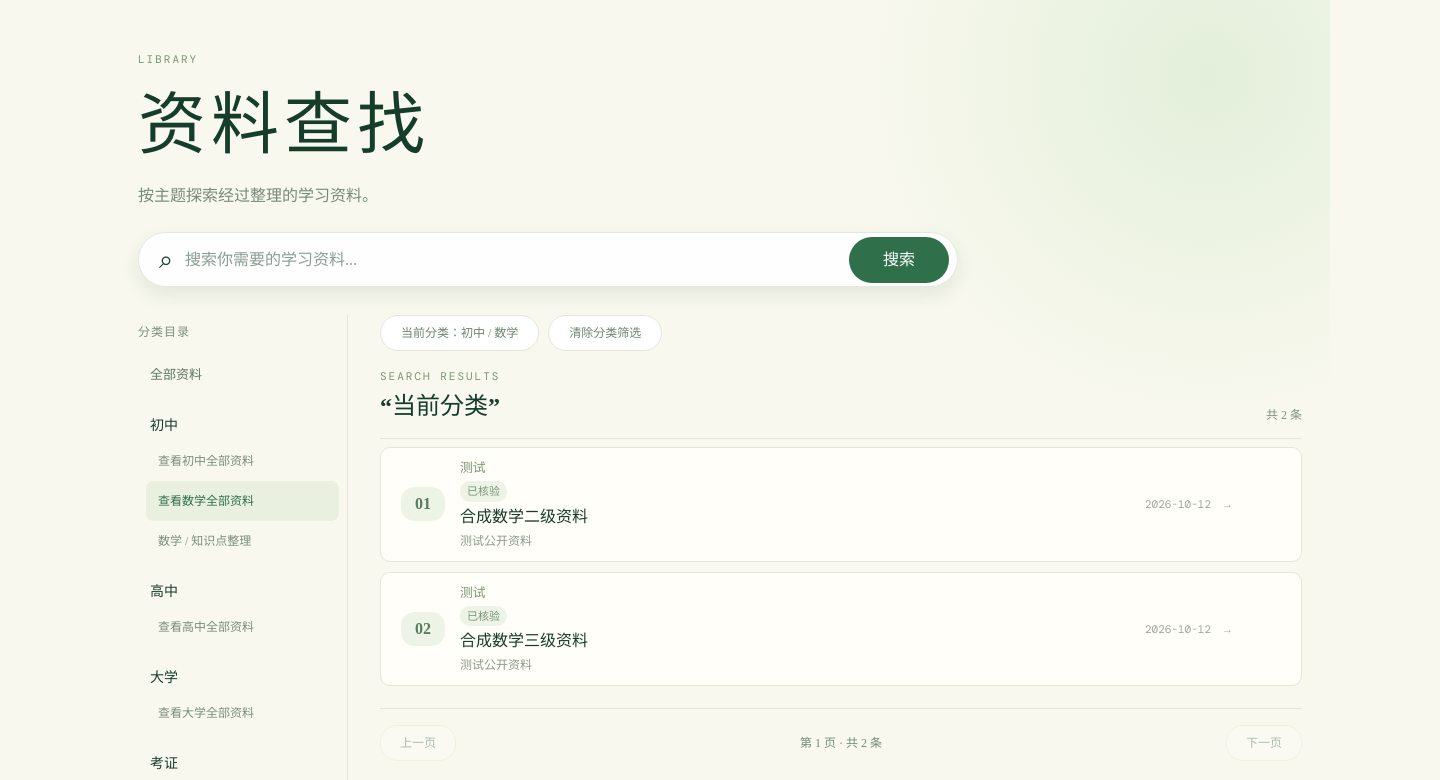
ResourcesPage category filtering › displays and searches valid category subject-junior-math
The image size is (1440, 780).
Expected: the text "合成数学二级资料" is shown, 460,508 -> 588,525
Expected: the text "共 2 条" is shown, 1266,406 -> 1302,424
Type "合成数学二级资料" into the field named "关键词". click: [511, 260]
box: 185,248 -> 837,272
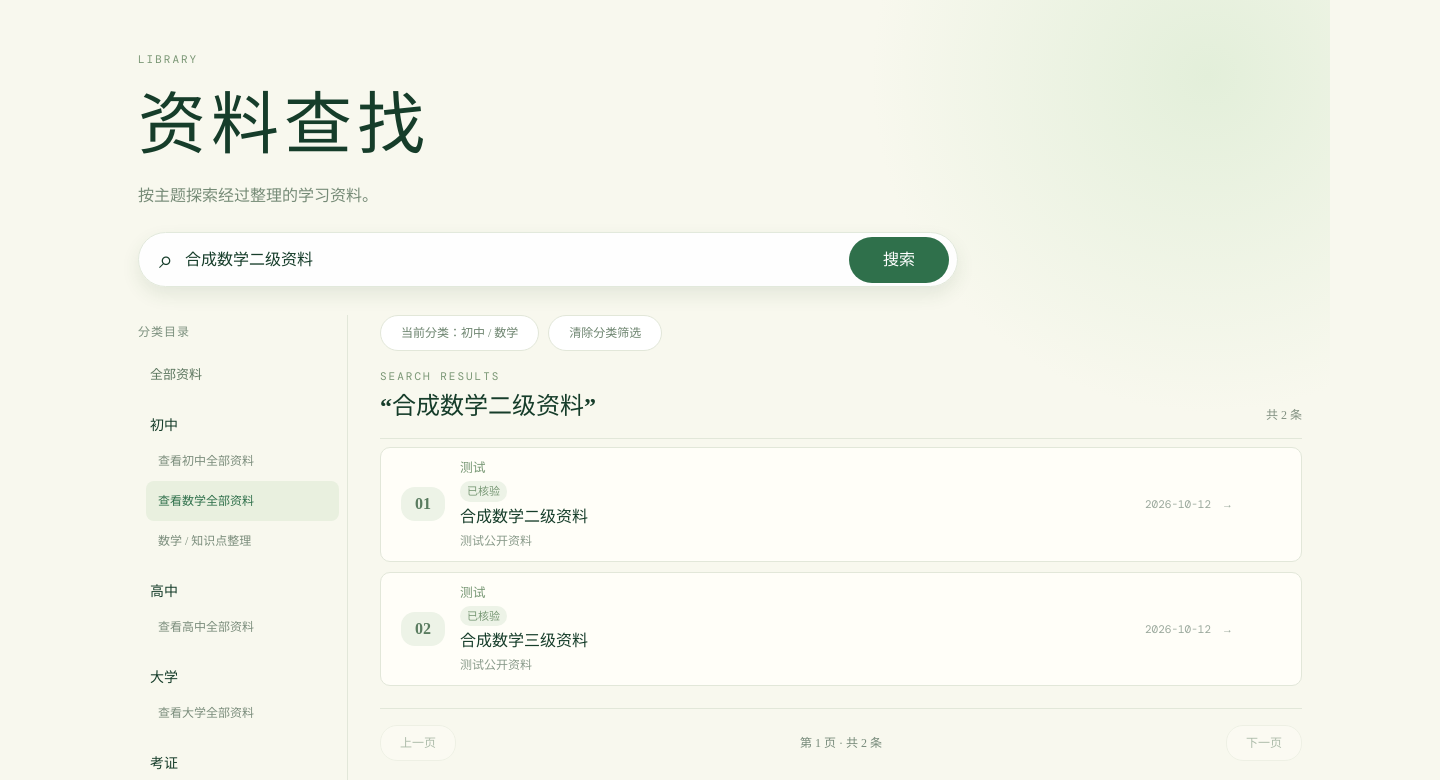
Click the button "搜索". click: [899, 260]
box: 849,236 -> 949,282
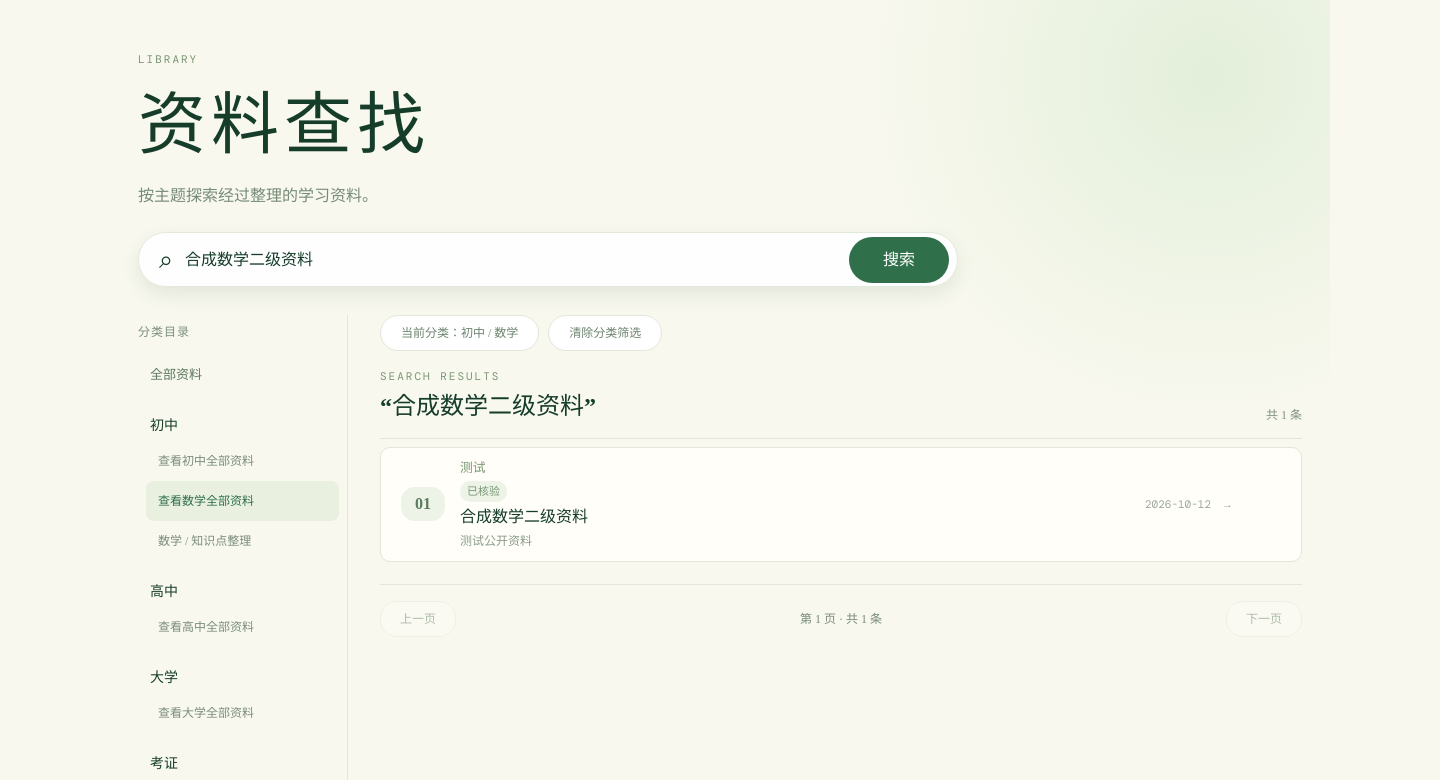
Expected: the text "合成数学二级资料" is shown, 460,508 -> 588,525
Expected: the text "共 1 条" is shown, 1266,406 -> 1302,424
